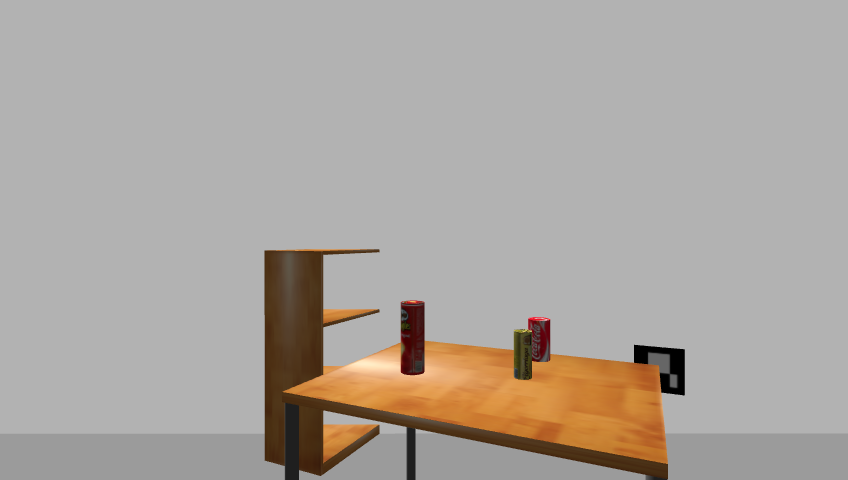aruco marker: (629, 343, 690, 397)
biscuits pack: (512, 329, 533, 381)
bookshelf: (259, 246, 385, 479)
coke can: (527, 316, 552, 364)
dinner table: (277, 339, 676, 480)
pringles can: (397, 301, 427, 377)
